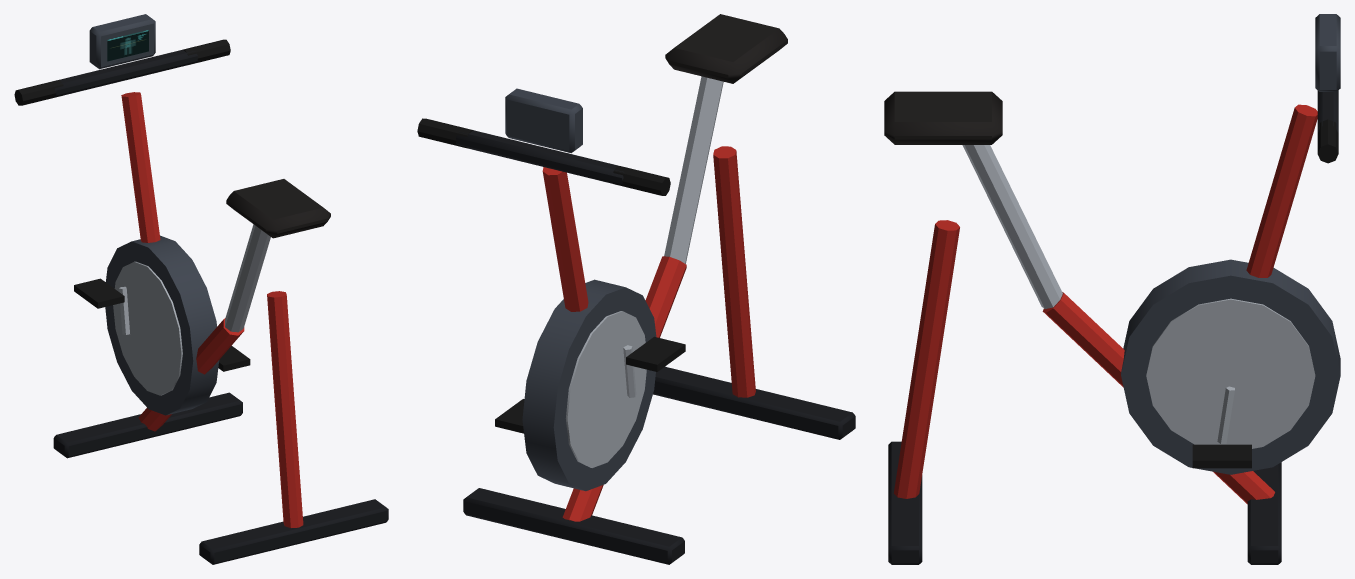
File: gym_exercise_bike.glb
3 views of the same model, side by side, from view 1: azimuth 30°, elevation 25°; view 2: azimuth 150°, elevation 25°; view 3: azimuth 270°, elevation 25° (orthographic). The views are drawn at different scales.
Visible parts, largest first — view 1: gym_exercise_bike; view 2: gym_exercise_bike; view 3: gym_exercise_bike.
Boxes of the visible parts, bbox=[...] form: gym_exercise_bike: bbox=[14, 14, 388, 564]; gym_exercise_bike: bbox=[417, 14, 855, 564]; gym_exercise_bike: bbox=[884, 14, 1340, 564].
Bounding box in the file's own units: 0.7 × 1.26 × 1.08.
Materials: 7 (1 with a texture image).
